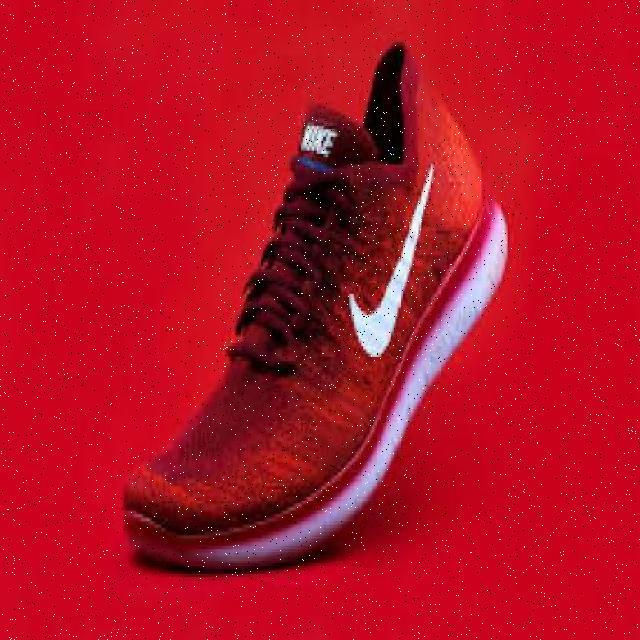Nike: (342, 154, 440, 360)
